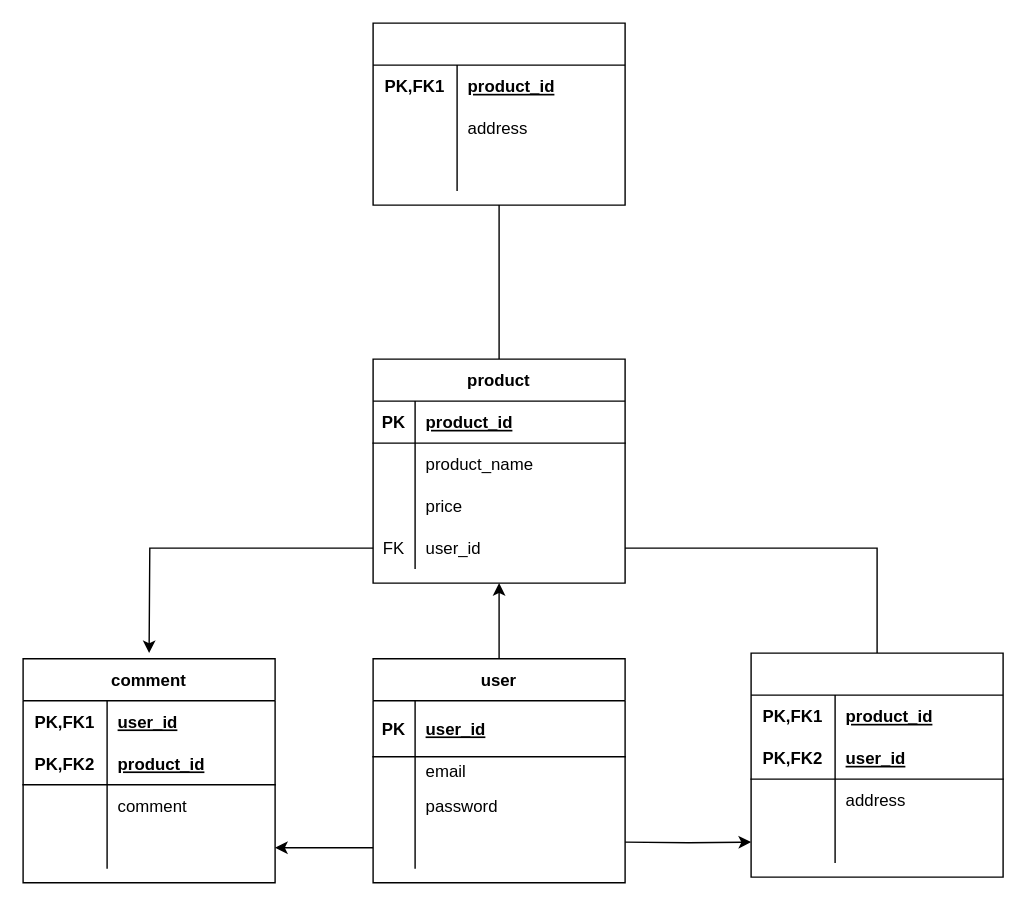
The diagram is 1026 pixels wide and 906 high, and some of its shapes have lost their labels. The shapes that lost their labels are listed below. From the top down, each one's box as (x1, y1, x2, y2) in pixels, then its label:
(372, 22, 625, 205): shopping
(750, 652, 1003, 877): purchase
